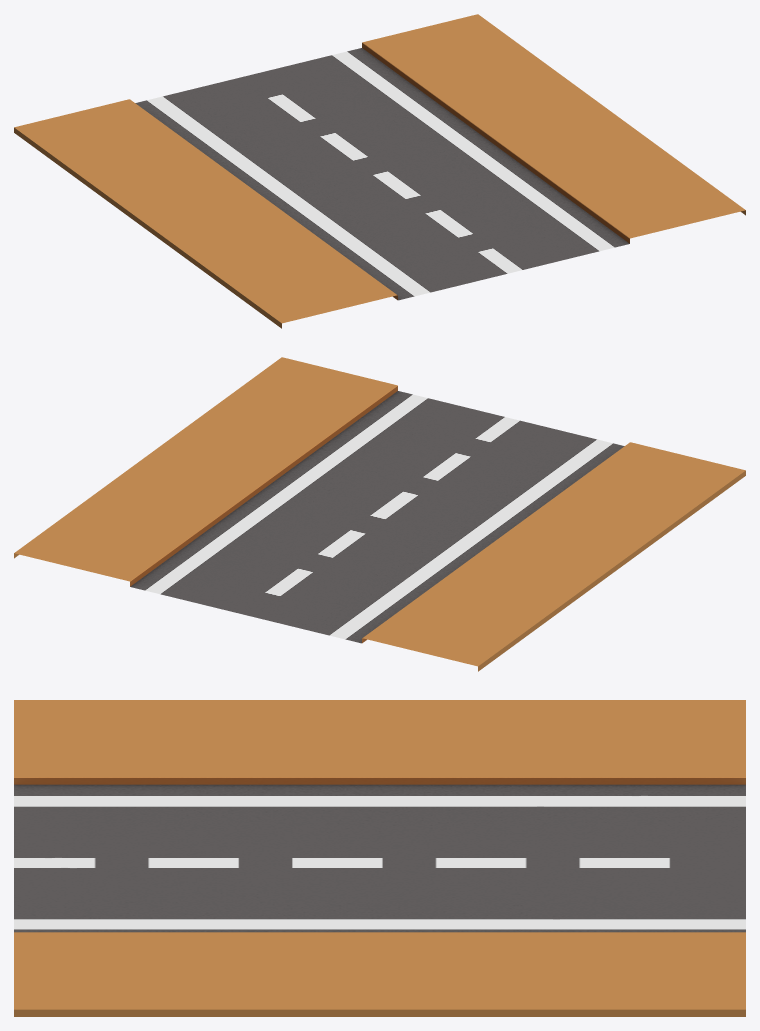
The model's file is Straight_Road.fbx.
3 views of the same model, one above another, from view 1: azimuth 30°, elevation 25°; view 2: azimuth 150°, elevation 25°; view 3: azimuth 270°, elevation 25° (orthographic). The views are drawn at different scales.
Parts seen in each view (by area): view 1: Plane.001; view 2: Plane.001; view 3: Plane.001.
Part boxes in pixels (bbox=[...]): Plane.001: bbox=[14, 14, 745, 328]; Plane.001: bbox=[14, 357, 745, 671]; Plane.001: bbox=[14, 700, 745, 1016].
Size of the model in its own units: 2000 by 22.09 by 2000.
